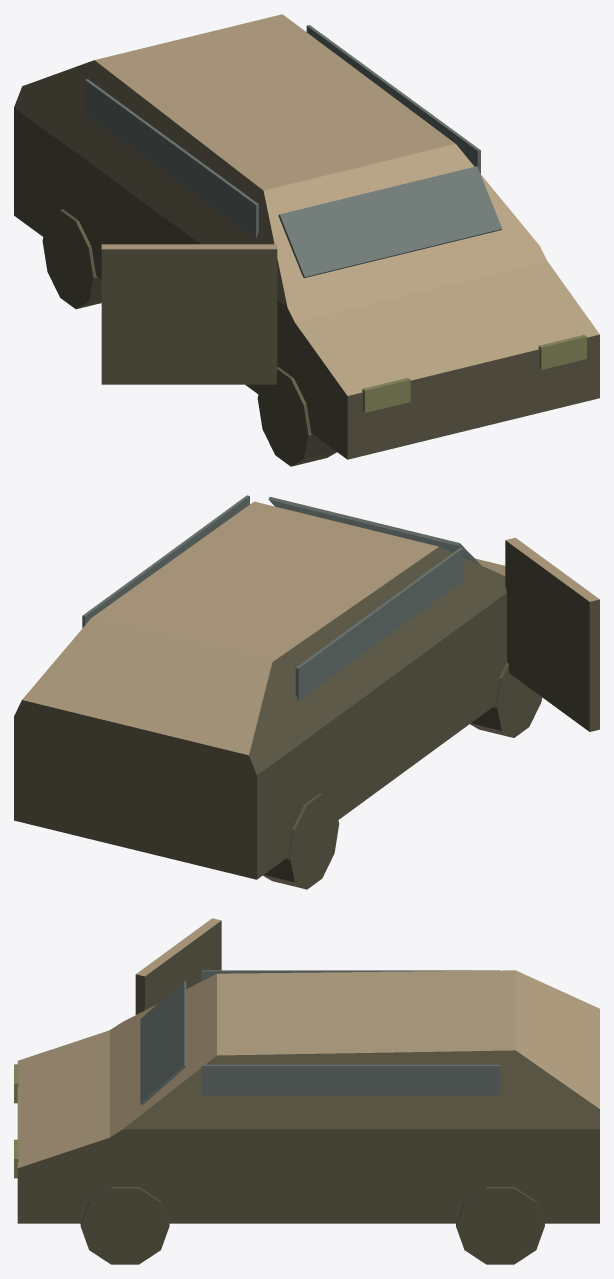
The model's file is SM_CocheCivil_Utilitario_v1_LOD0.fbx.
3 renders of one model, top to bottom at view 1: azimuth 30°, elevation 25°; view 2: azimuth 150°, elevation 25°; view 3: azimuth 270°, elevation 25°, orthographic. The views are drawn at different scales.
Parts seen in each view (by area): view 1: SM_coche_civil_v1_LOD0; view 2: SM_coche_civil_v1_LOD0; view 3: SM_coche_civil_v1_LOD0.
Part boxes in pixels (x1,y1,x2,y2): SM_coche_civil_v1_LOD0: (14, 14, 599, 466); SM_coche_civil_v1_LOD0: (14, 495, 599, 889); SM_coche_civil_v1_LOD0: (14, 918, 599, 1264).
Size of the model in its own units: 2.56 by 1.44 by 3.82.
